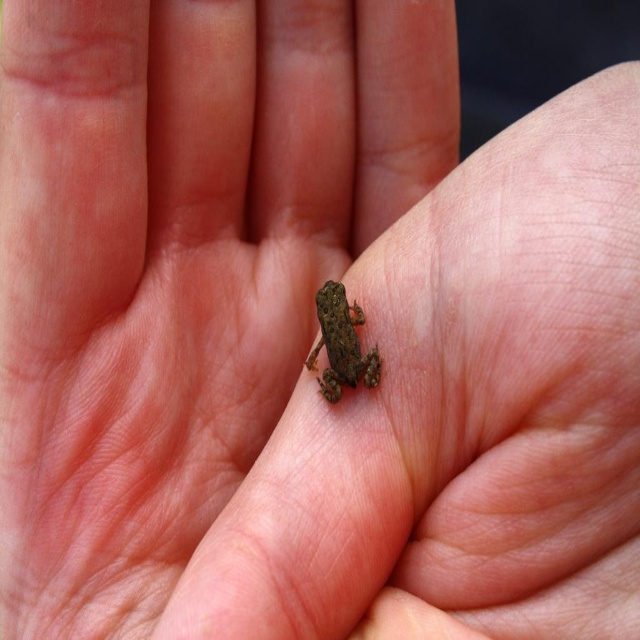Frog: (305, 276, 385, 406)
